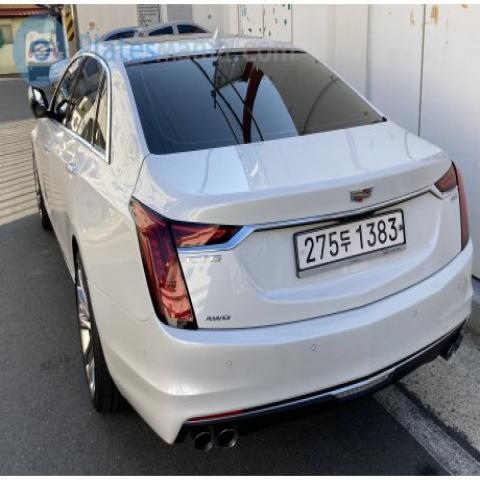LP: (281, 198, 415, 283)
